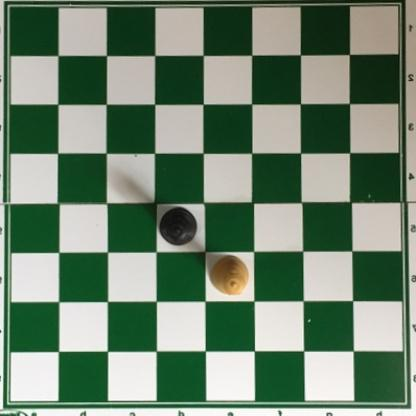black-queen: (158, 207, 199, 246)
white-queen: (208, 255, 251, 298)
